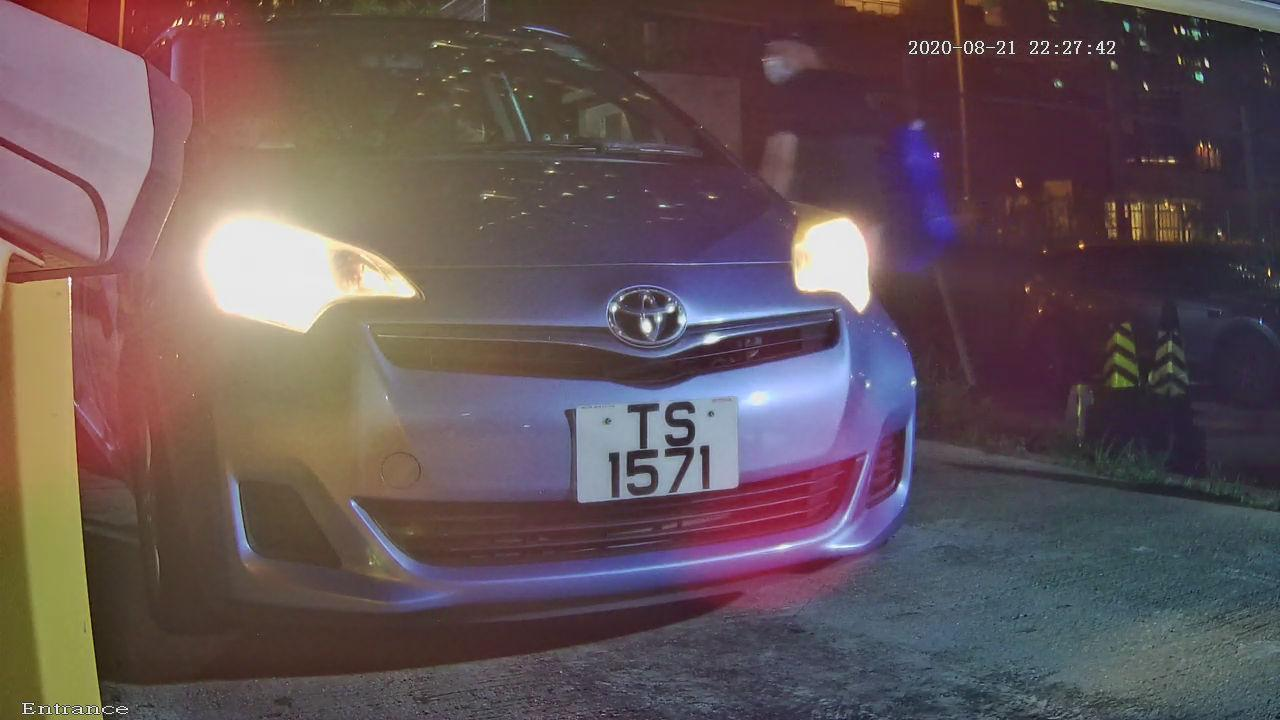Car: (1, 13, 995, 692)
License Plate: (555, 373, 761, 521)
